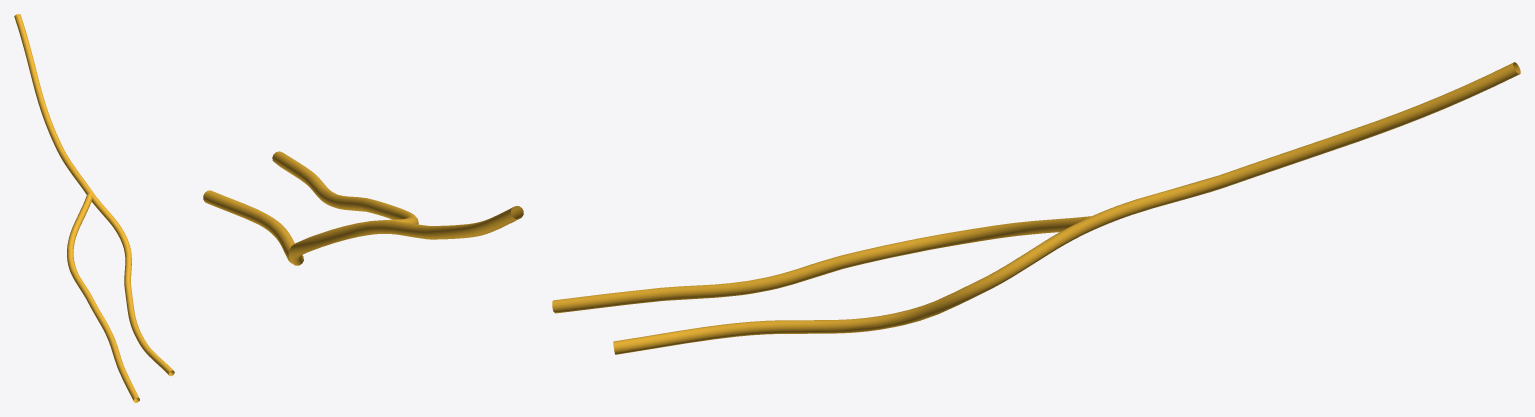
File: nervoso-dorsal-digital-branches-of-deep-fibular-nerve-r.glb
The picture shows the model from 3 angles, left to right: view 1: azimuth 30°, elevation 25°; view 2: azimuth 210°, elevation 25°; view 3: azimuth 270°, elevation 25°; orthographic projection. The views are drawn at different scales.
Visible parts, largest first — view 1: Dorsal digital branches of deep fibular nerve.r; view 2: Dorsal digital branches of deep fibular nerve.r; view 3: Dorsal digital branches of deep fibular nerve.r.
Part boxes in pixels (<box>): Dorsal digital branches of deep fibular nerve.r: <box>14,14,174,402</box>; Dorsal digital branches of deep fibular nerve.r: <box>203,151,523,265</box>; Dorsal digital branches of deep fibular nerve.r: <box>552,62,1520,354</box>.
Bounding box in the file's own units: 0.0215 × 0.0298 × 0.071.
